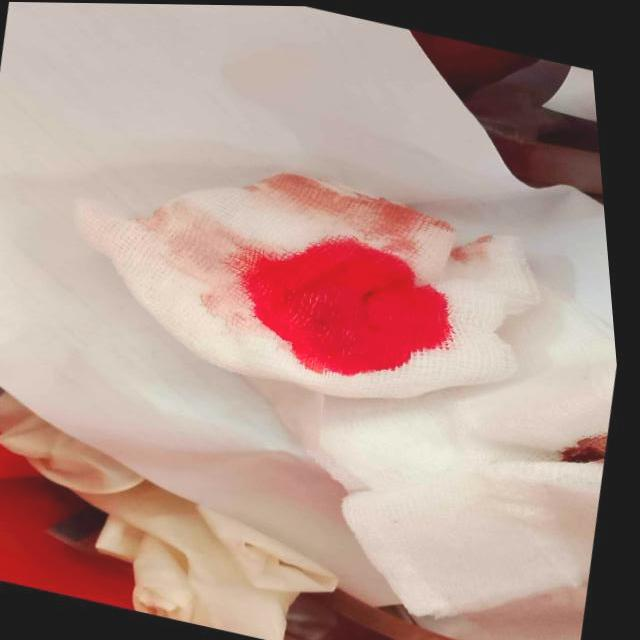General: (0, 3, 626, 639)
Infectious: (72, 171, 541, 401)
